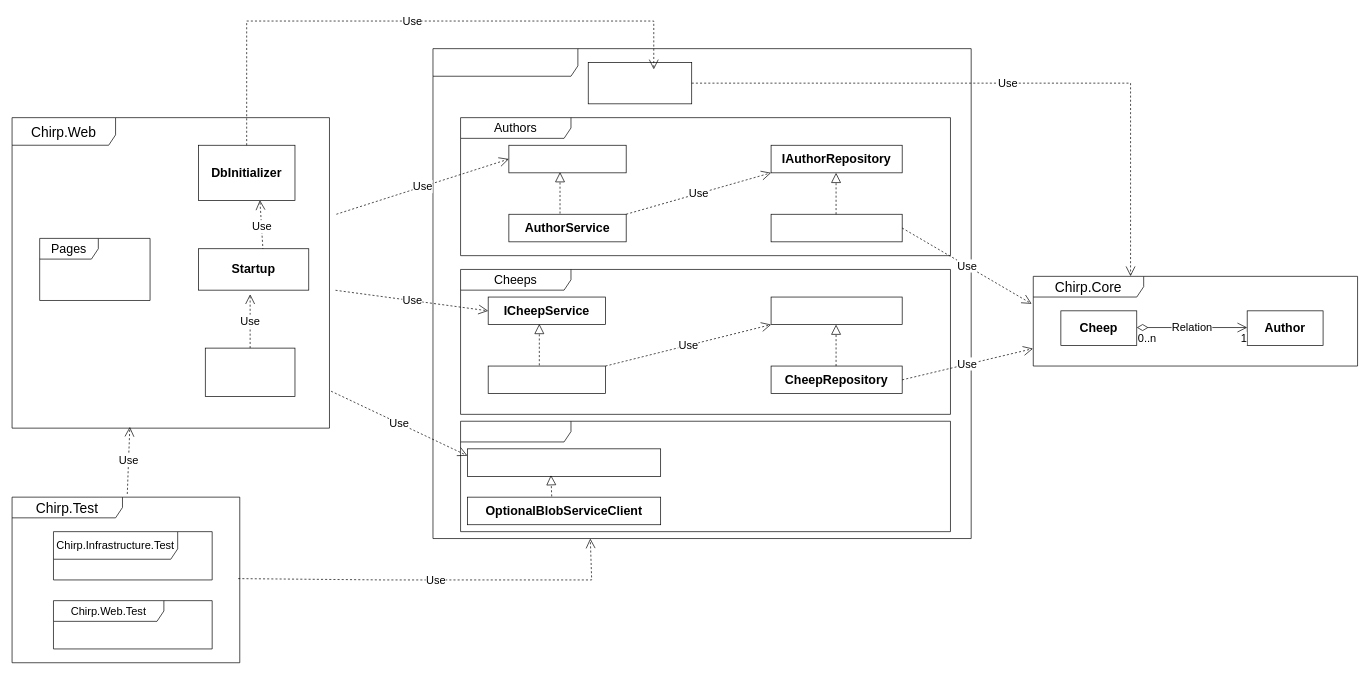
Image size: 1370x675. Some labels were removed from this diagram. Each missing label, with the box of its shape:
AuthorRepository: (770, 214, 902, 242)
CheepService: (487, 365, 605, 394)
Chirp.Infrastructure: (432, 48, 971, 539)
ChirpDBContext: (588, 62, 692, 104)
External: (460, 421, 950, 532)
IAuthorService: (508, 145, 626, 173)
ICheepRepository: (770, 296, 902, 325)
IOptionalBlobServiceClient: (467, 448, 661, 476)
Program: (205, 347, 295, 396)
